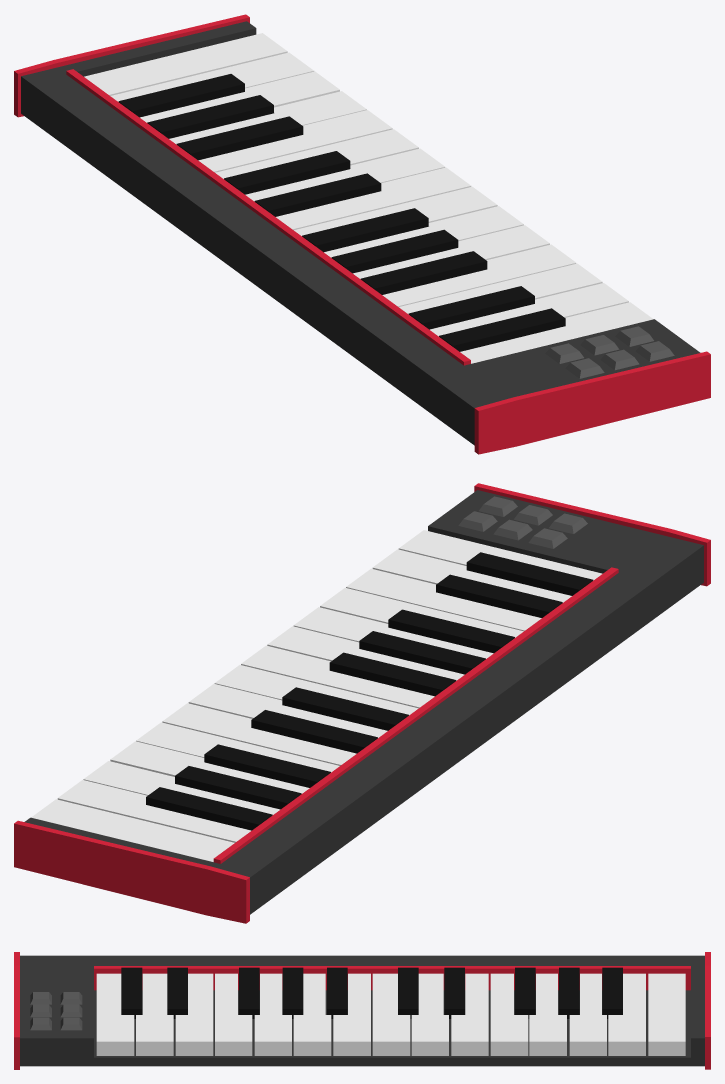
File: Piano_low 1.fbx
3 renders of one model, top to bottom at view 1: azimuth 30°, elevation 25°; view 2: azimuth 150°, elevation 25°; view 3: azimuth 270°, elevation 25°, orthographic. The views are drawn at different scales.
Parts seen in each view (by area): view 1: Front_low, C++_low, Back_low, C+_low, F+_low, F_low, C_low, Buttons_low, E_low, D_low, D+_low, E+_low (+16 smaller); view 2: Front_low, C++_low, Back_low, E_low, E+_low, B+_low, B_low, Buttons_low, D+_low, D_low, C+_low, C_low (+16 smaller); view 3: Front_low, Back_low, C++_low, E_low, C+_low, C_low, D+_low, D_low, F+_low, E+_low, A_low, F_low (+16 smaller).
Boxes of the visible parts, x1,y1,x2,y2 form: Front_low: (14, 14, 710, 454); C++_low: (84, 33, 287, 95); Back_low: (66, 69, 470, 365); C+_low: (276, 167, 471, 230); F+_low: (198, 110, 392, 172); F_low: (382, 244, 576, 306); C_low: (460, 302, 653, 363); Buttons_low: (545, 326, 674, 378); E_low: (399, 263, 602, 314); D_low: (430, 283, 628, 336); D+_low: (245, 148, 445, 201); E+_low: (215, 129, 418, 178); Front_low: (14, 483, 710, 923); C++_low: (31, 799, 234, 862); Back_low: (213, 567, 618, 863); E_low: (346, 568, 541, 631); E+_low: (162, 703, 356, 765); B+_low: (57, 780, 251, 842); B_low: (241, 645, 434, 708); Buttons_low: (458, 496, 587, 548); D+_low: (188, 684, 387, 737); D_low: (372, 549, 571, 602); C+_low: (214, 665, 418, 715); C_low: (398, 530, 602, 580); Front_low: (14, 952, 710, 1069); Back_low: (94, 966, 690, 1066); C++_low: (648, 973, 685, 1055); E_low: (175, 973, 213, 1055); C+_low: (372, 973, 410, 1055); C_low: (96, 973, 134, 1055); D+_low: (411, 973, 448, 1055); D_low: (136, 973, 173, 1055); F+_low: (490, 973, 528, 1055); E+_low: (451, 973, 488, 1055); A_low: (293, 973, 331, 1055); F_low: (215, 973, 252, 1055).
Bounding box in the file's own units: 1306 × 258 × 4521.
